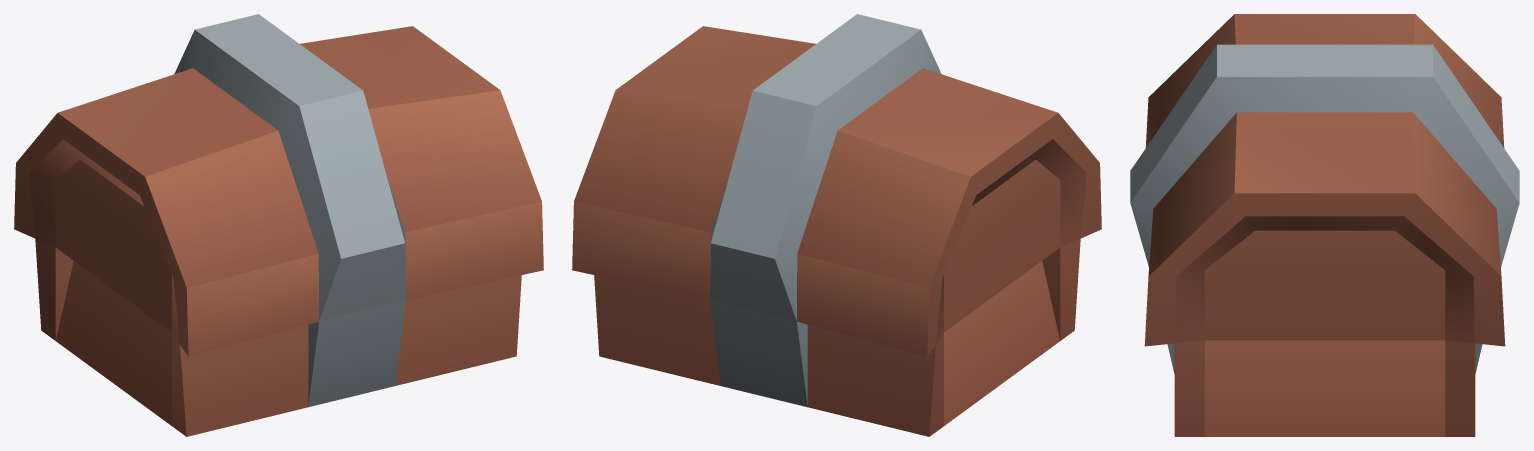
The model's file is trunk_medium_C.obj.
3 views of the same model, side by side, from view 1: azimuth 30°, elevation 25°; view 2: azimuth 150°, elevation 25°; view 3: azimuth 270°, elevation 25° (orthographic). The views are drawn at different scales.
Parts seen in each view (by area): view 1: trunk_medium_C; view 2: trunk_medium_C; view 3: trunk_medium_C.
Part boxes in pixels (x1,y1,x2,y2): trunk_medium_C: [14, 14, 543, 436]; trunk_medium_C: [572, 14, 1101, 436]; trunk_medium_C: [1130, 14, 1519, 436].
Bounding box in the file's own units: 0.953 × 0.7265 × 0.8751.
Materials: 1 (1 with a texture image).
